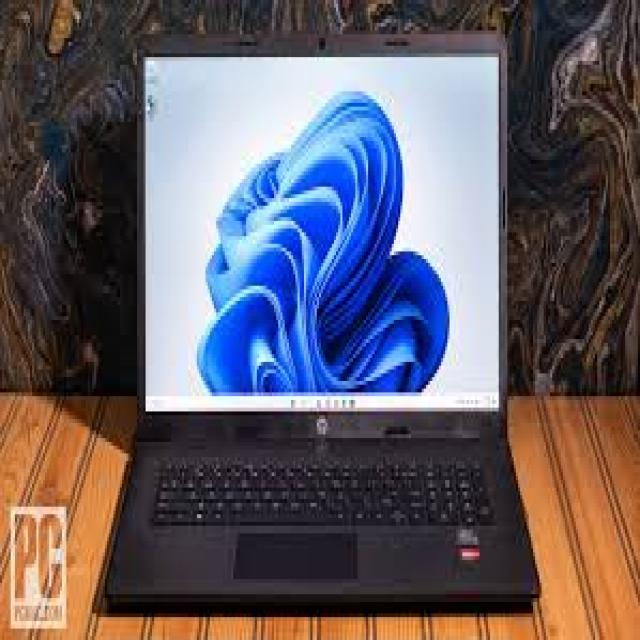others: (99, 15, 544, 629)
